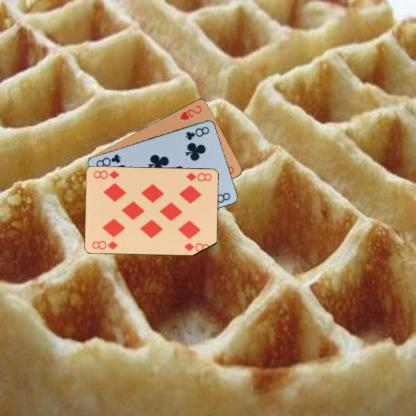2h: (178, 102, 204, 121)
8c: (183, 124, 210, 141)
8d: (90, 238, 119, 251), (184, 170, 213, 182)
